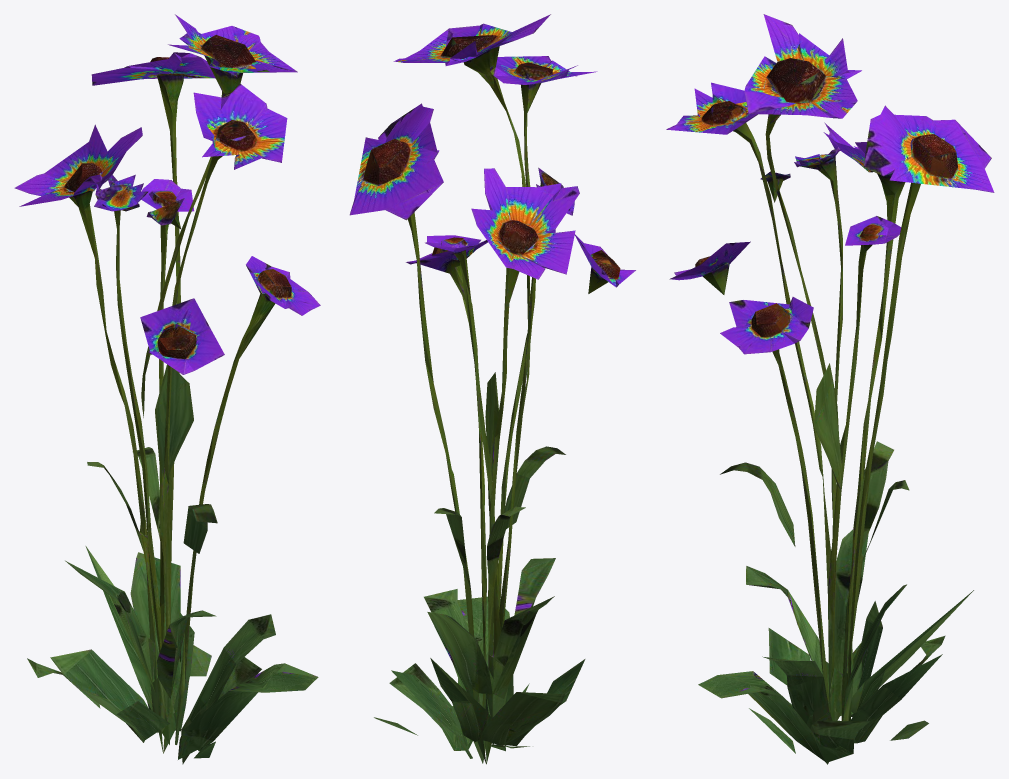
The model's file is FlowersViolet.glb.
3 views of the same model, side by side, from view 1: azimuth 30°, elevation 25°; view 2: azimuth 150°, elevation 25°; view 3: azimuth 270°, elevation 25° (orthographic). The views are drawn at different scales.
Bounding box in the file's own units: 0.1545 × 0.5 × 0.2033.
Materials: 1 (1 with a texture image).
